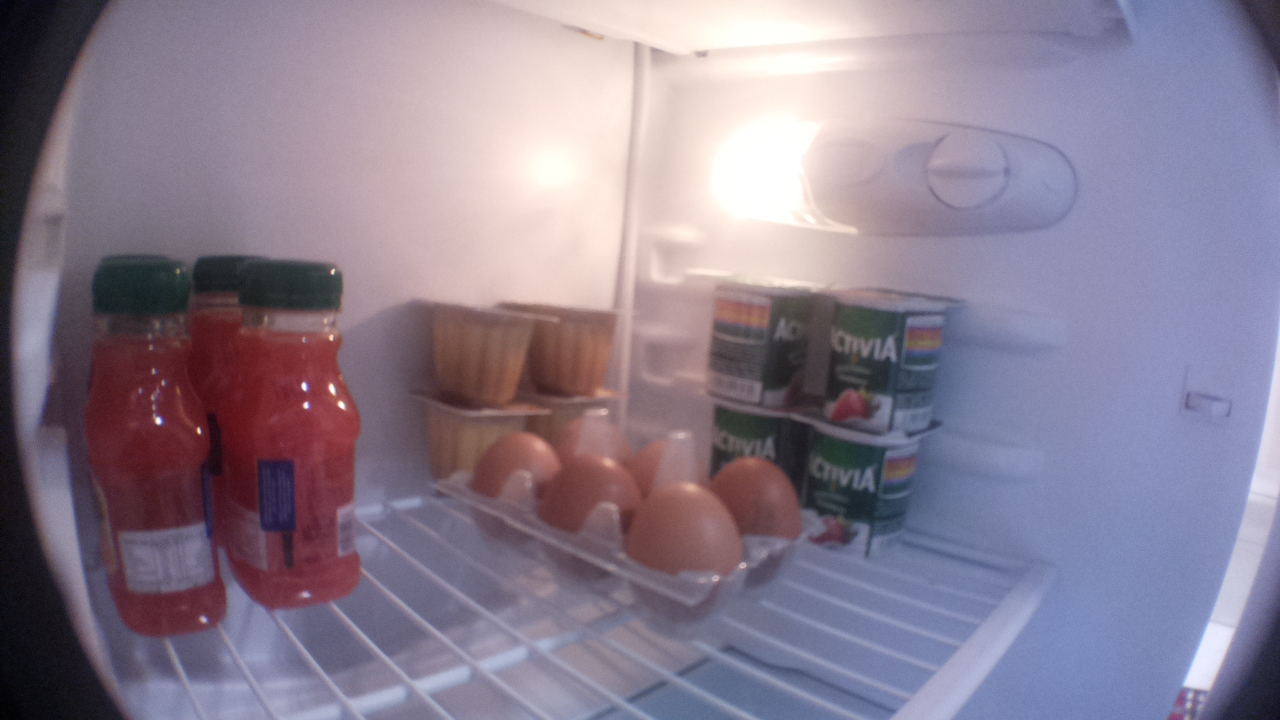caramel: (414, 291, 547, 404), (408, 384, 547, 482), (531, 302, 630, 399)
egg: (624, 474, 744, 636), (706, 457, 809, 593), (542, 451, 638, 586), (470, 426, 558, 552), (623, 430, 706, 496), (558, 415, 633, 476)
juice: (69, 255, 229, 640), (230, 265, 364, 615), (192, 251, 241, 409)
yoghurt: (796, 404, 945, 568), (823, 279, 965, 434), (697, 271, 826, 415), (697, 393, 796, 481)
